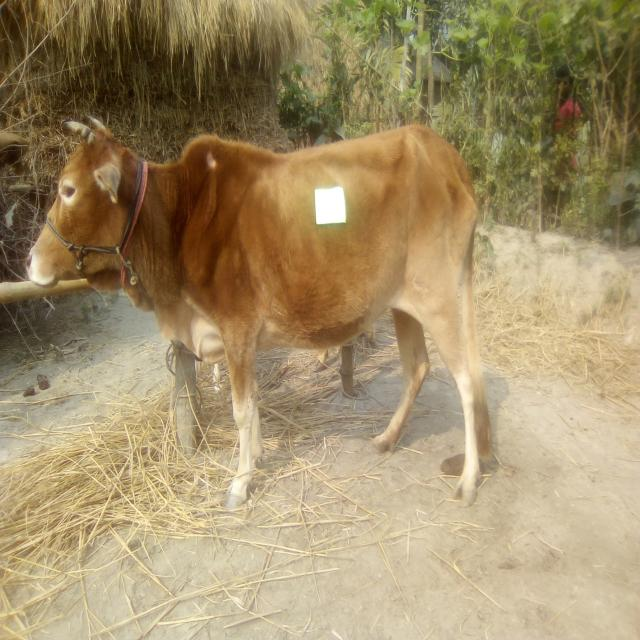badan_sapi: (198, 132, 477, 355)
sapi: (21, 111, 496, 515)
